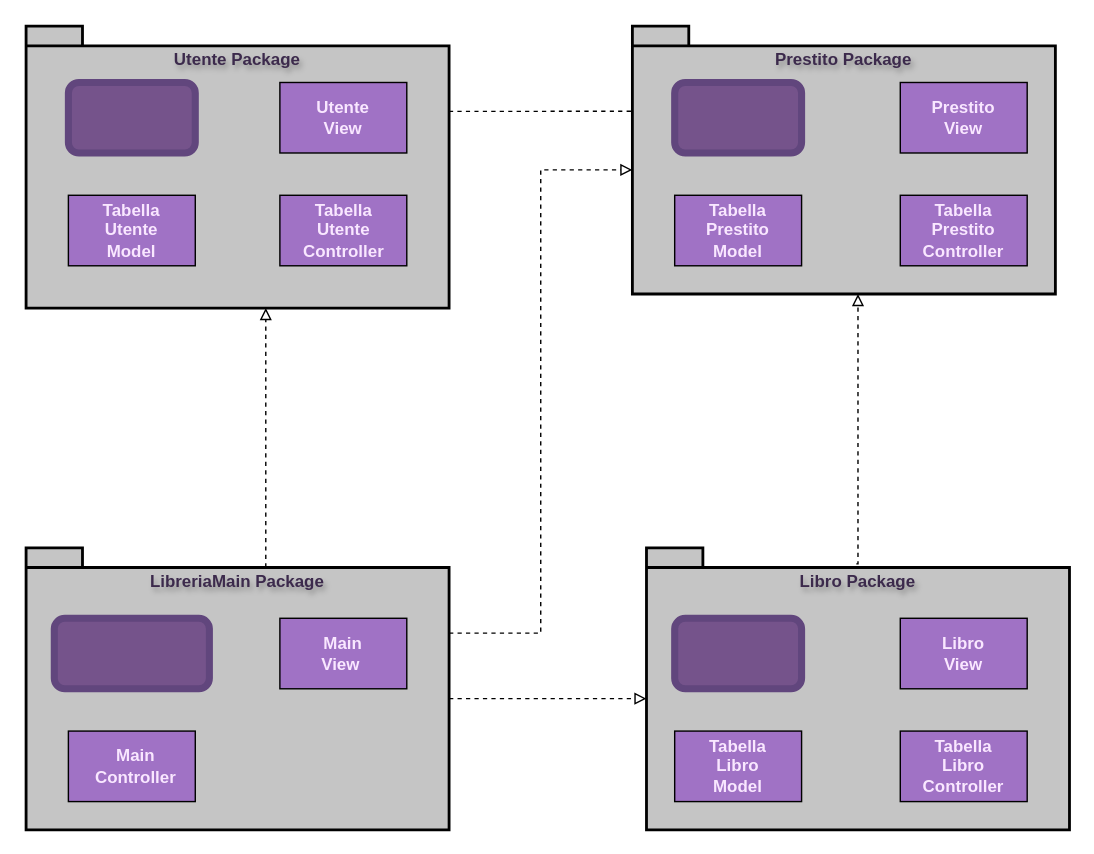
This 1094x854 diagram has some shape labels left out. Each missing label, with the centre of its shape:
"LibreriaMain" belongs at (x=131, y=653).
"Libro" belongs at (x=737, y=653).
"Prestito" belongs at (x=737, y=117).
"Utente" belongs at (x=131, y=117).
